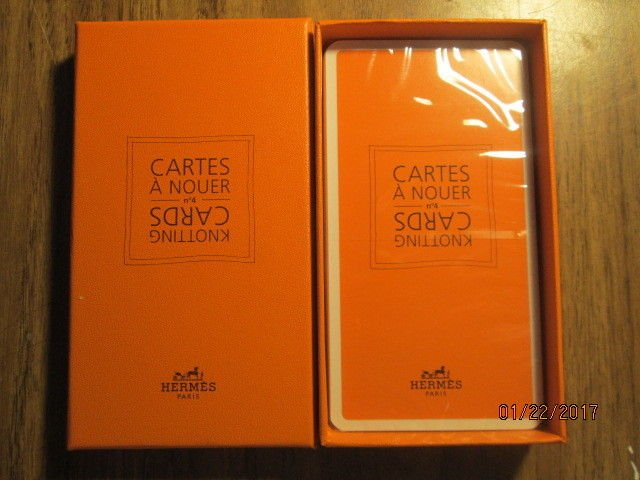HERMES: (157, 363, 221, 403)
